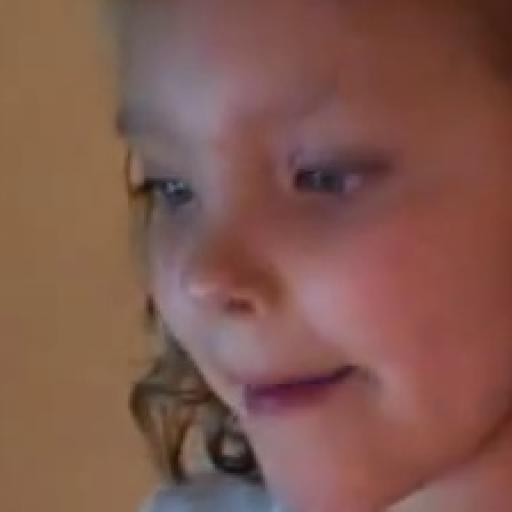Autism: (73, 16, 512, 512)
